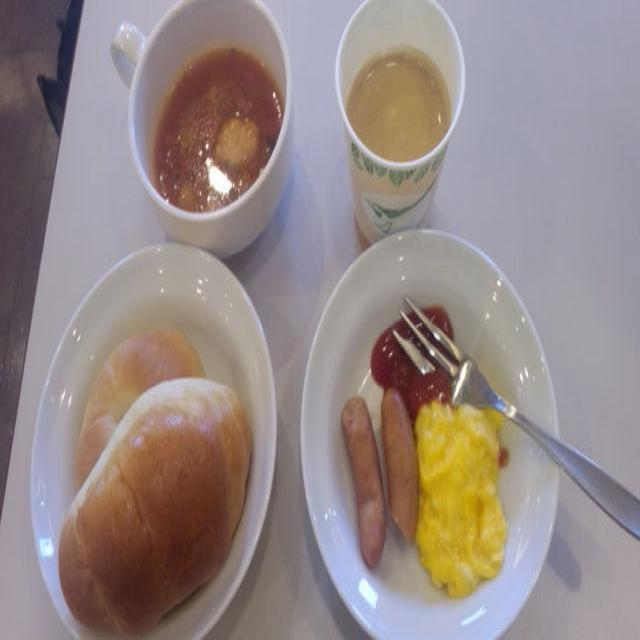Sausage: (340, 378, 393, 578)
